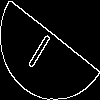I: (25, 25, 58, 70)
